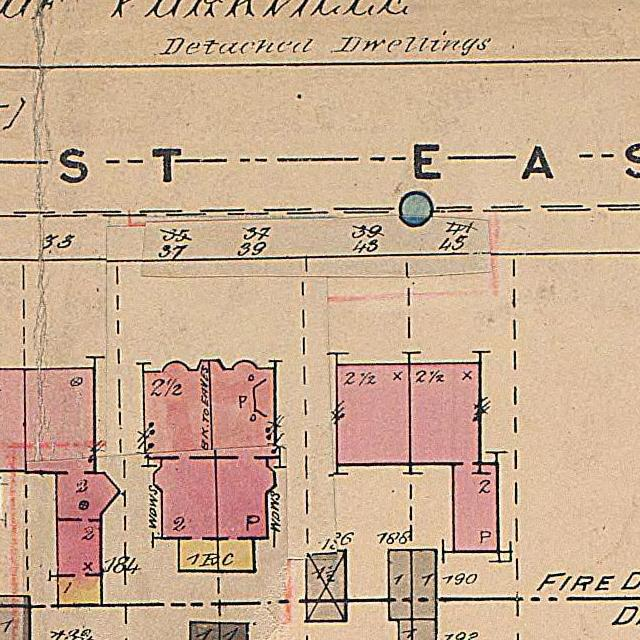building-footprints: (25, 368, 120, 606), (410, 363, 499, 551), (143, 360, 218, 572), (210, 360, 276, 572), (337, 365, 410, 464), (307, 551, 346, 621), (0, 369, 26, 471), (411, 550, 437, 619), (389, 550, 412, 619), (0, 597, 30, 640), (399, 620, 436, 640), (191, 623, 220, 640), (220, 623, 248, 640)
